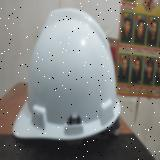Helmet: (12, 8, 121, 140)
